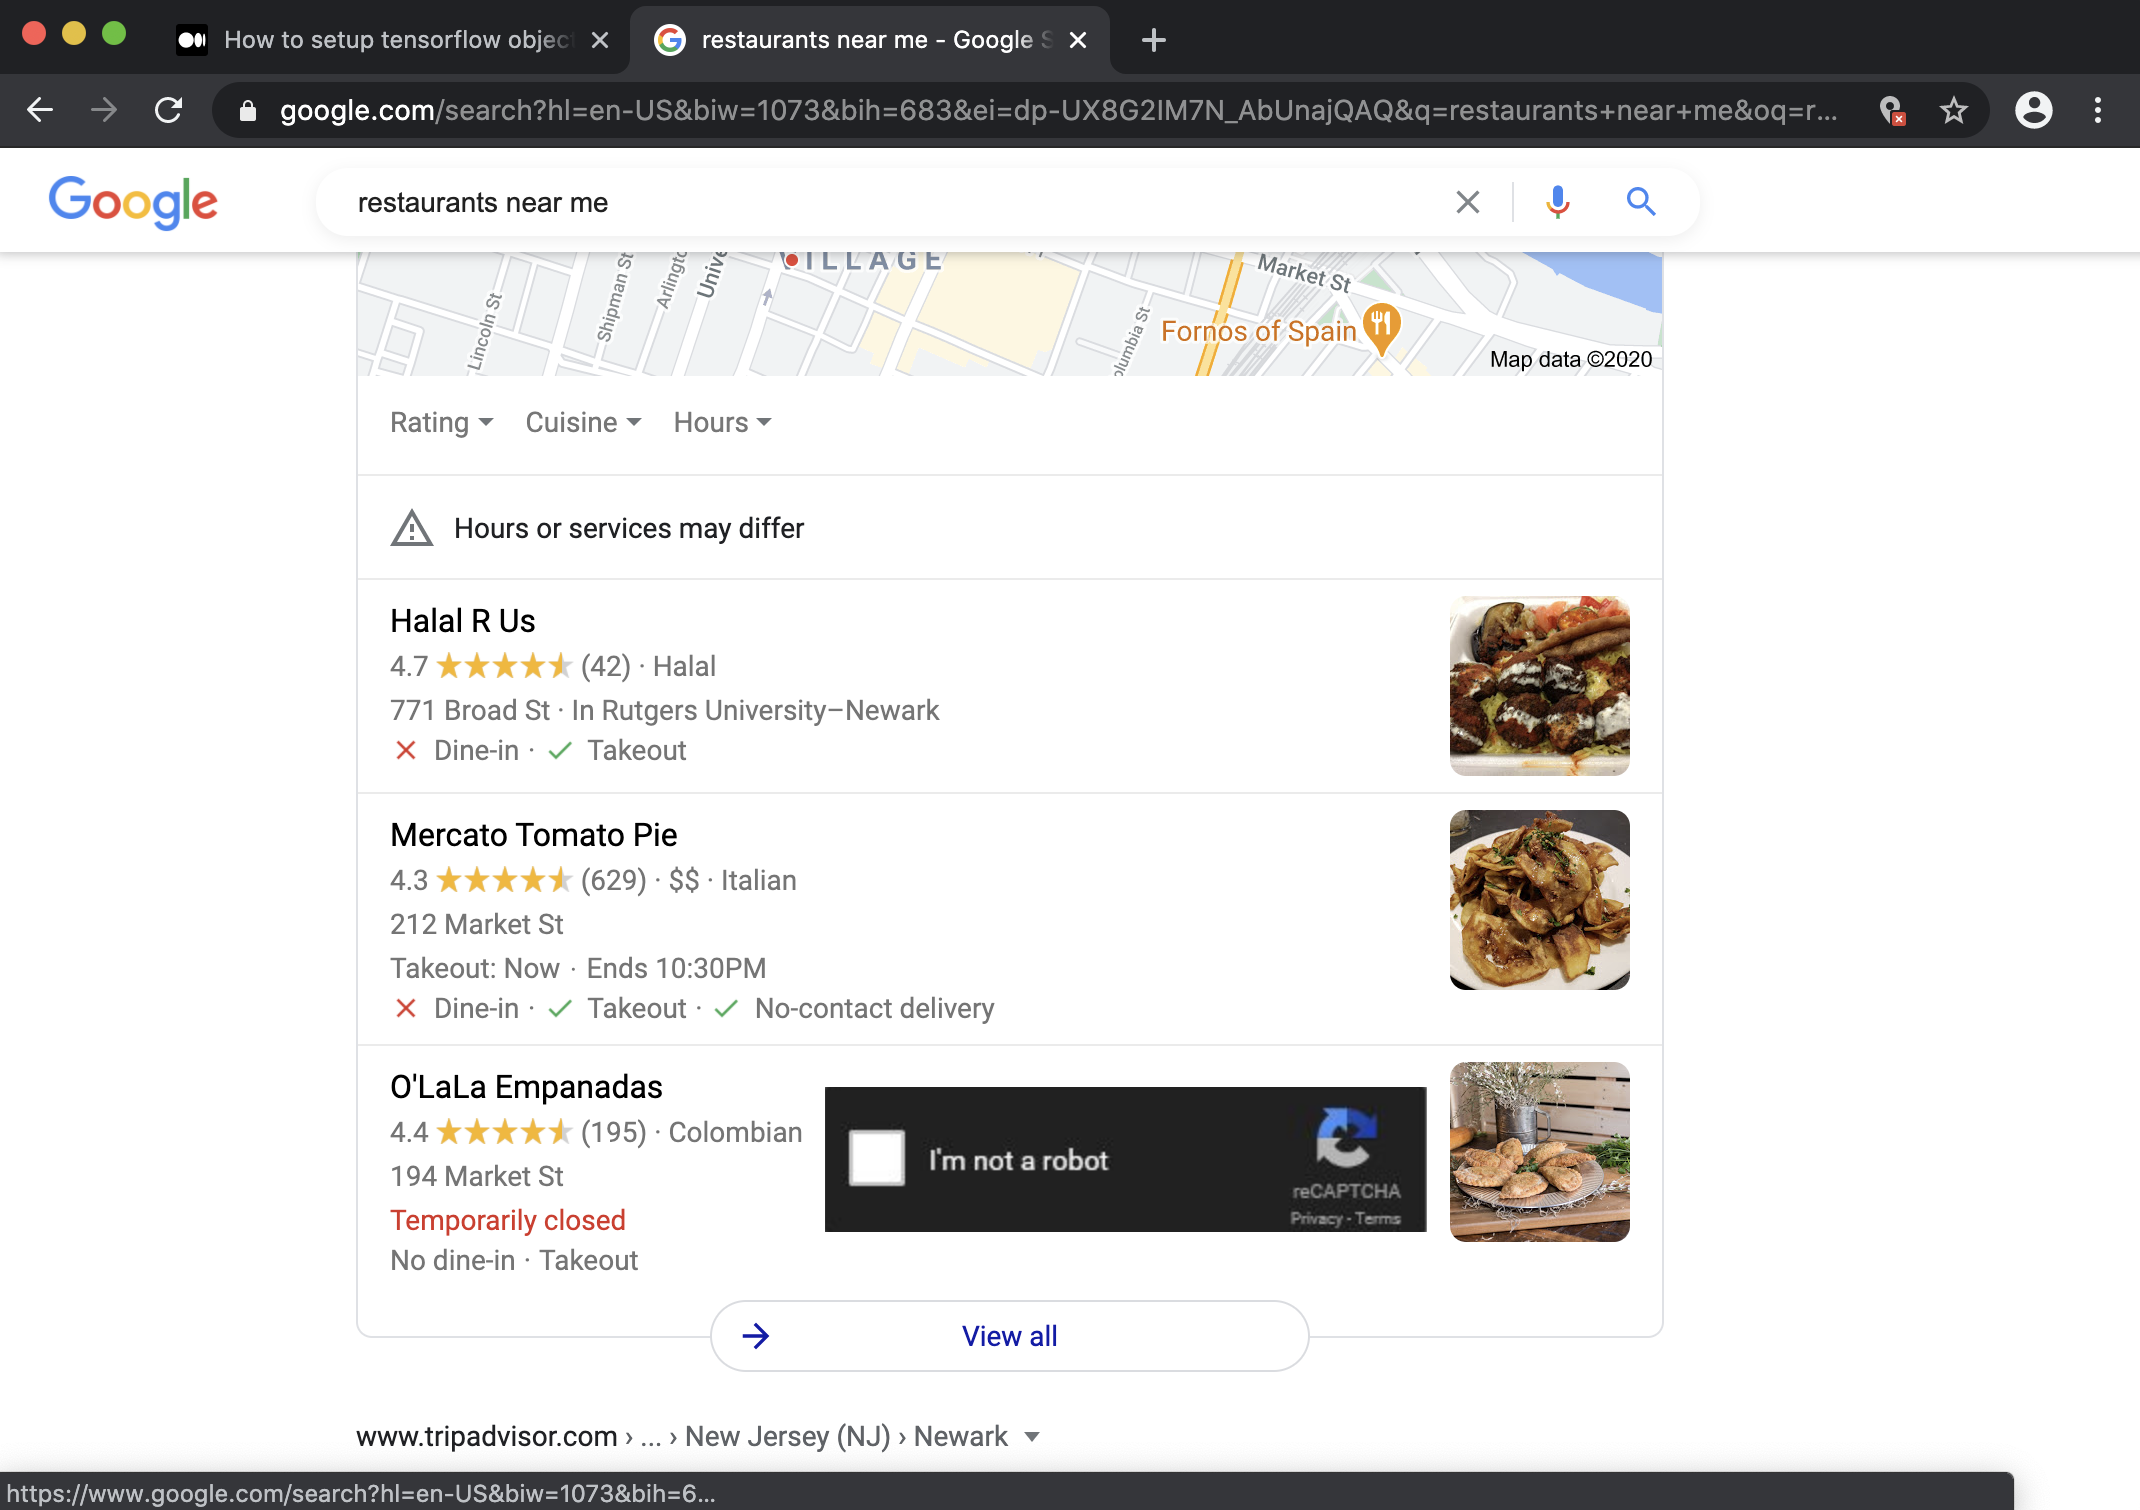captcha: (814, 1075, 1439, 1239)
